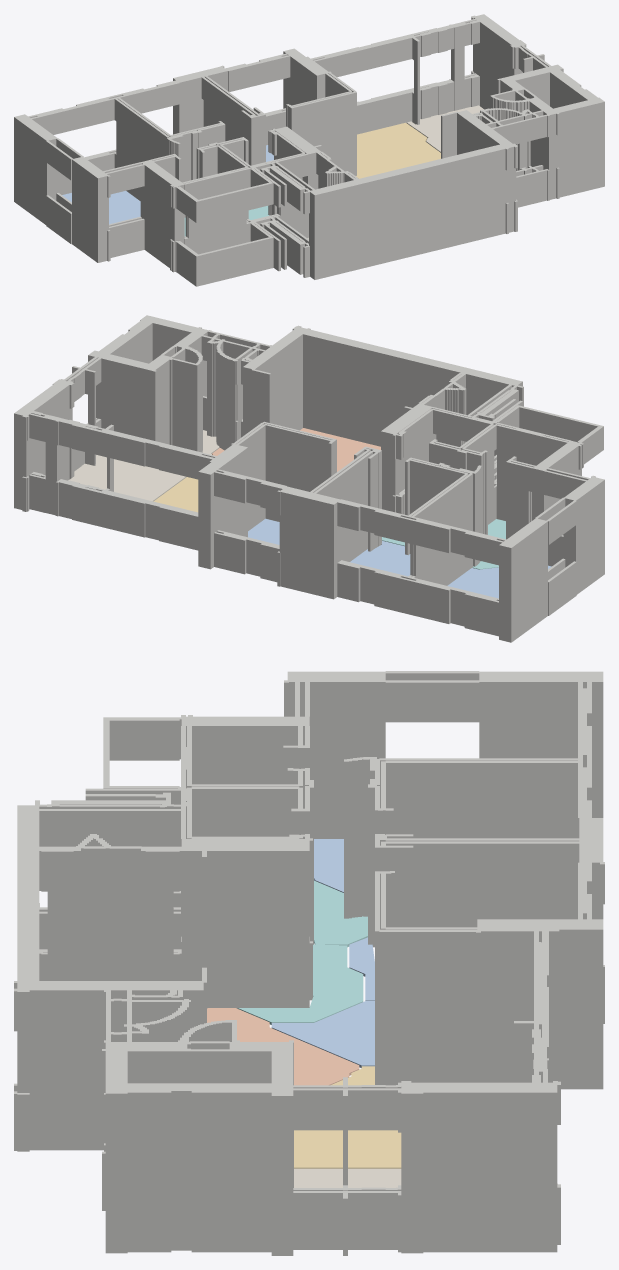
3 views of the same model, one above another, from view 1: azimuth 30°, elevation 25°; view 2: azimuth 150°, elevation 25°; view 3: azimuth 270°, elevation 25° (orthographic). The views are drawn at different scales.
Parts seen in each view (by area): view 1: walls, room:living:7, room:bedroom:9, room:other:8; view 2: walls, room:other:8, room:bedroom:0, room:bedroom:9, room:living:7, room:kitchen:10, room:bedroom:6, room:bath:1; view 3: walls, room:living:7, room:bath:2, room:bedroom:6, room:kitchen:10, room:bath:1, room:other:8, room:bedroom:9, room:bedroom:0.
Boxes of the visible parts, x1,y1,x2,y2 form: walls: (14, 14, 604, 286); room:living:7: (356, 122, 440, 178); room:bedroom:9: (62, 191, 140, 224); room:other:8: (406, 105, 483, 152); walls: (14, 315, 604, 642); room:other:8: (68, 430, 219, 501); room:bedroom:0: (350, 541, 410, 576); room:bedroom:9: (447, 565, 551, 598); room:living:7: (153, 477, 198, 512); room:kitchen:10: (212, 428, 380, 471); room:bedroom:6: (248, 518, 279, 544); room:bath:1: (472, 519, 505, 569); walls: (14, 671, 604, 1255); room:living:7: (294, 1066, 401, 1168); room:bath:2: (237, 944, 363, 1024); room:bedroom:6: (271, 1001, 374, 1067); room:kitchen:10: (207, 1008, 359, 1085); room:bath:1: (314, 880, 367, 947); room:other:8: (294, 1168, 401, 1187); room:bedroom:9: (314, 839, 343, 892); room:bedroom:0: (349, 937, 374, 1000).
Bounding box in the file's own units: 15.96 × 2.8 × 9.38.
